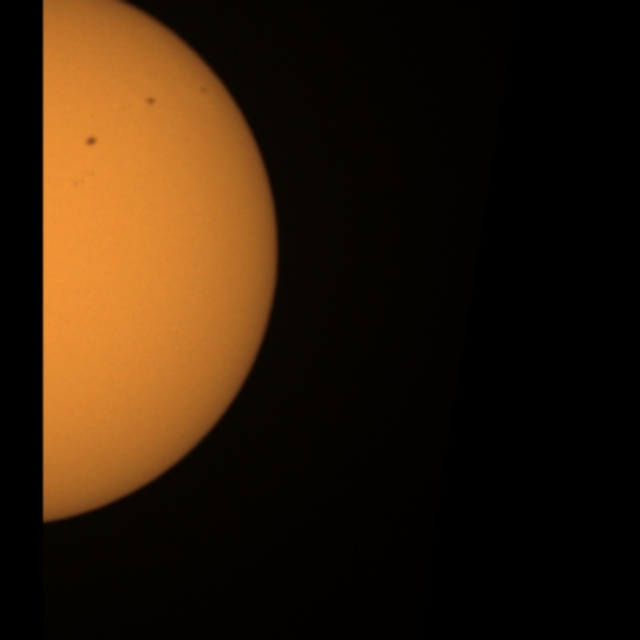sunspot: (70, 167, 97, 190), (84, 134, 100, 150), (144, 95, 157, 108), (198, 84, 210, 97)
